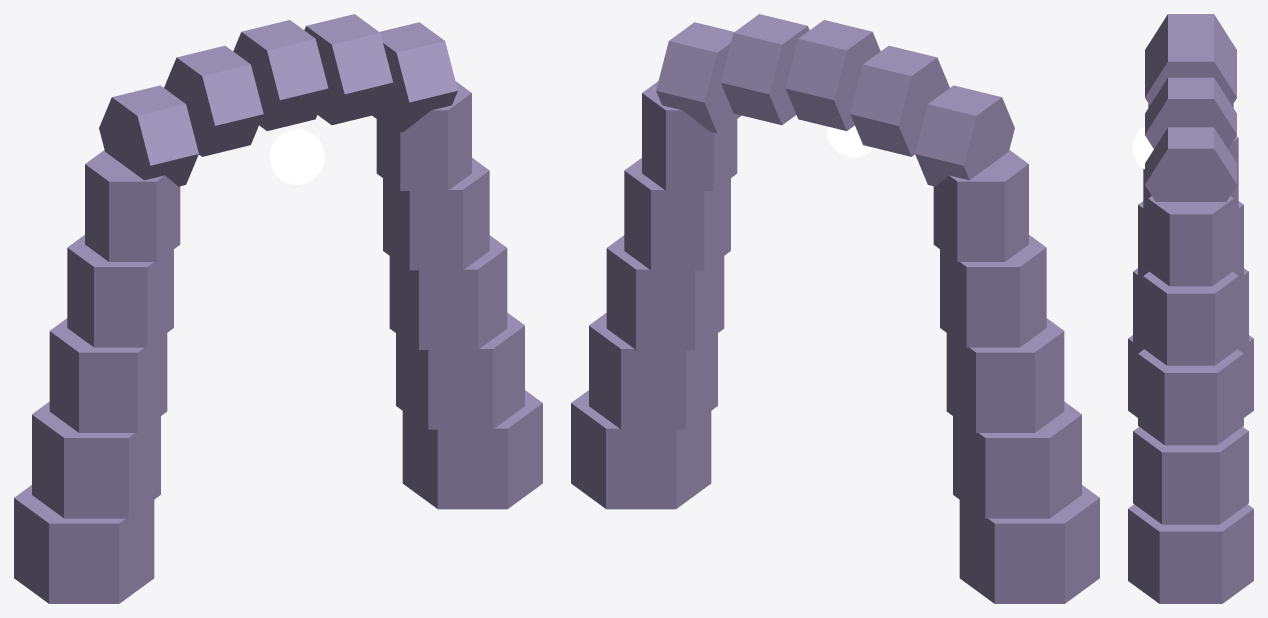
File: alien__arch.fbx
The picture shows the model from 3 angles, left to right: view 1: azimuth 30°, elevation 25°; view 2: azimuth 150°, elevation 25°; view 3: azimuth 270°, elevation 25°; orthographic projection. The views are drawn at different scales.
Visible parts, largest first — view 1: alien__arch; view 2: alien__arch; view 3: alien__arch.
Boxes of the visible parts, bbox=[...] form: alien__arch: bbox=[14, 14, 542, 603]; alien__arch: bbox=[571, 14, 1099, 603]; alien__arch: bbox=[1128, 14, 1253, 603].
Size of the model in its own units: 6.1 by 5.85 by 1.5.
